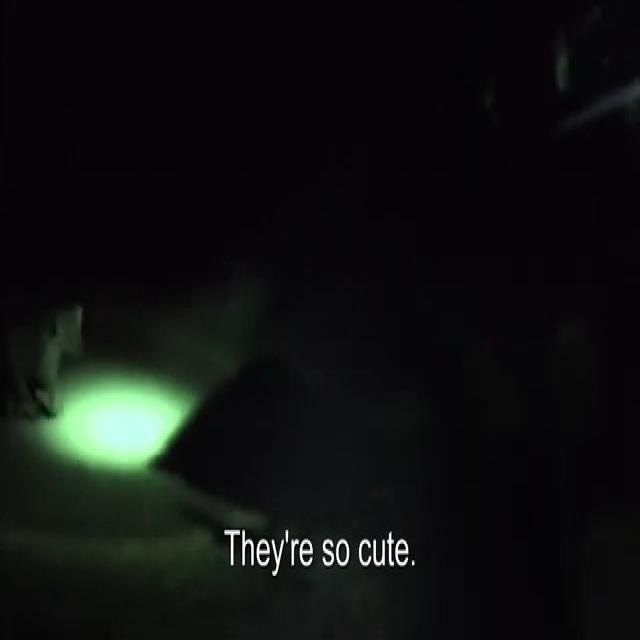animal: (1, 261, 100, 464)
unknown: (68, 370, 207, 538)
